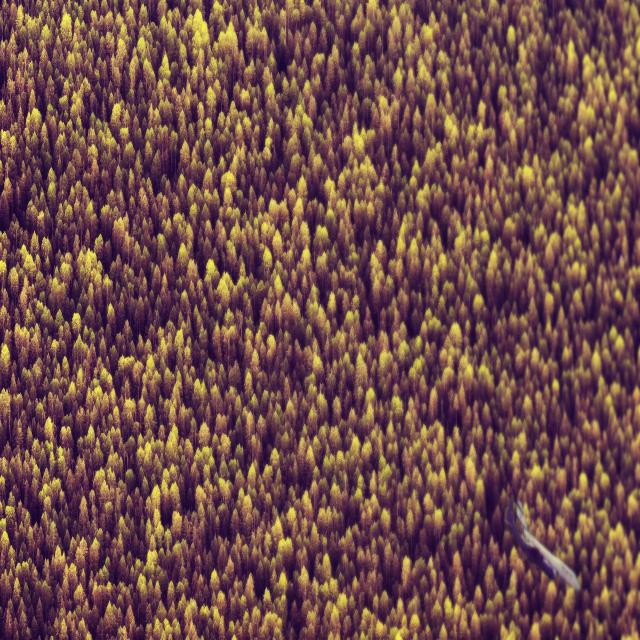airplane: (503, 495, 581, 592)
